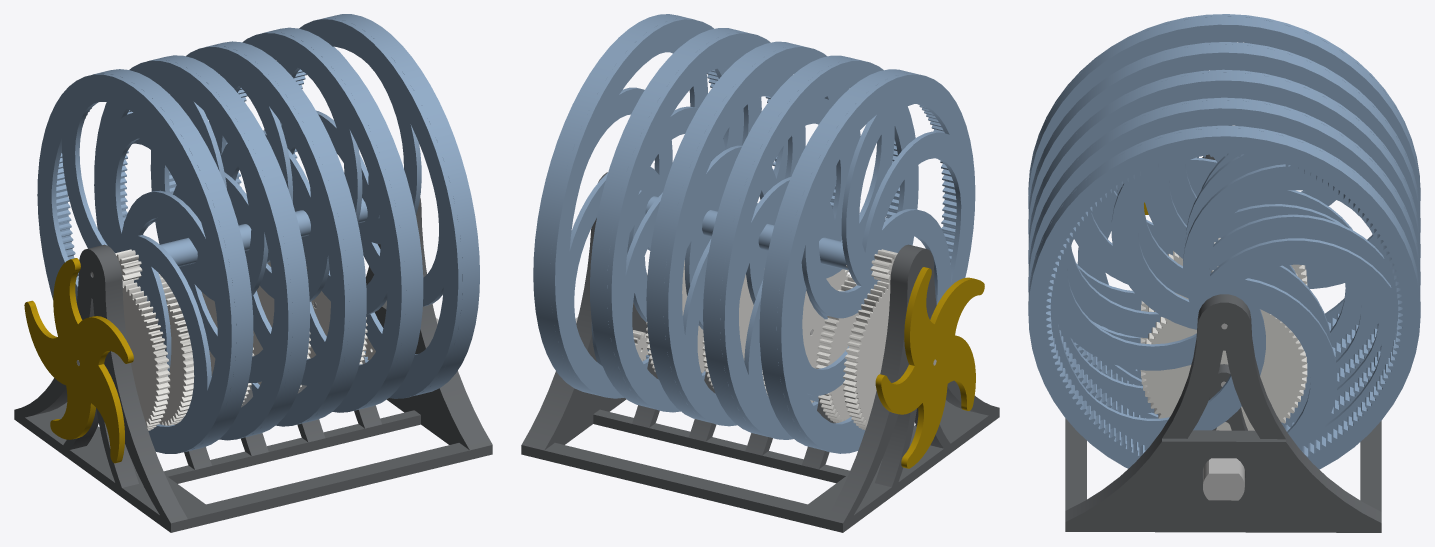
3 views of the same model, side by side, from view 1: azimuth 30°, elevation 25°; view 2: azimuth 150°, elevation 25°; view 3: azimuth 270°, elevation 25° (orthographic).
Visible parts, largest first — view 1: Solid1 (×20); view 2: Solid1 (×21); view 3: Solid1 (×14).
Boxes of the visible parts, x1,y1,x2,y2 form: Solid1 (×20): [14, 14, 492, 532]; Solid1 (×21): [521, 14, 999, 532]; Solid1 (×14): [1028, 14, 1420, 532].
Size of the model in its own units: 0.2007 by 0.2004 by 0.1868.
